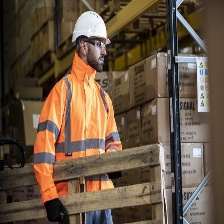helmet: (69, 8, 112, 49)
person: (32, 10, 128, 224)
vest: (34, 63, 128, 153)
